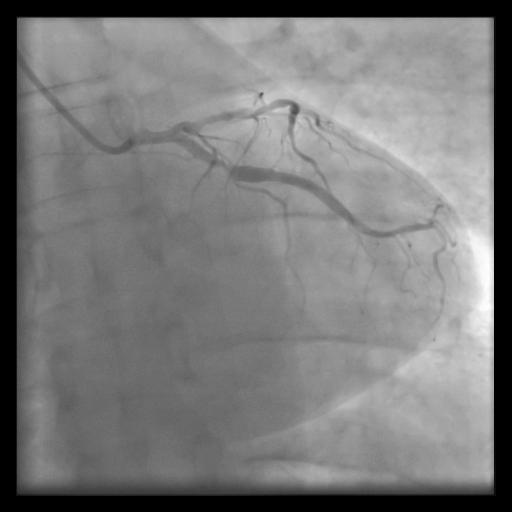Stenosis: (211, 153, 238, 184)
